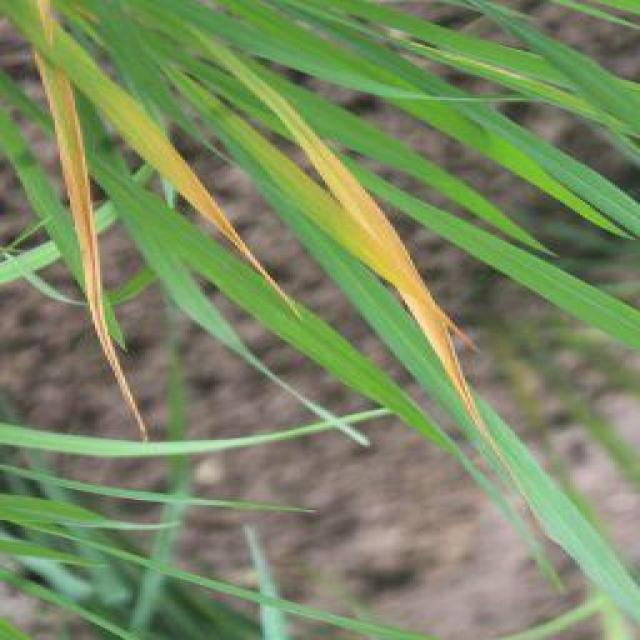Rice Tungro: (303, 167, 496, 428), (26, 110, 145, 398), (151, 139, 263, 298)
